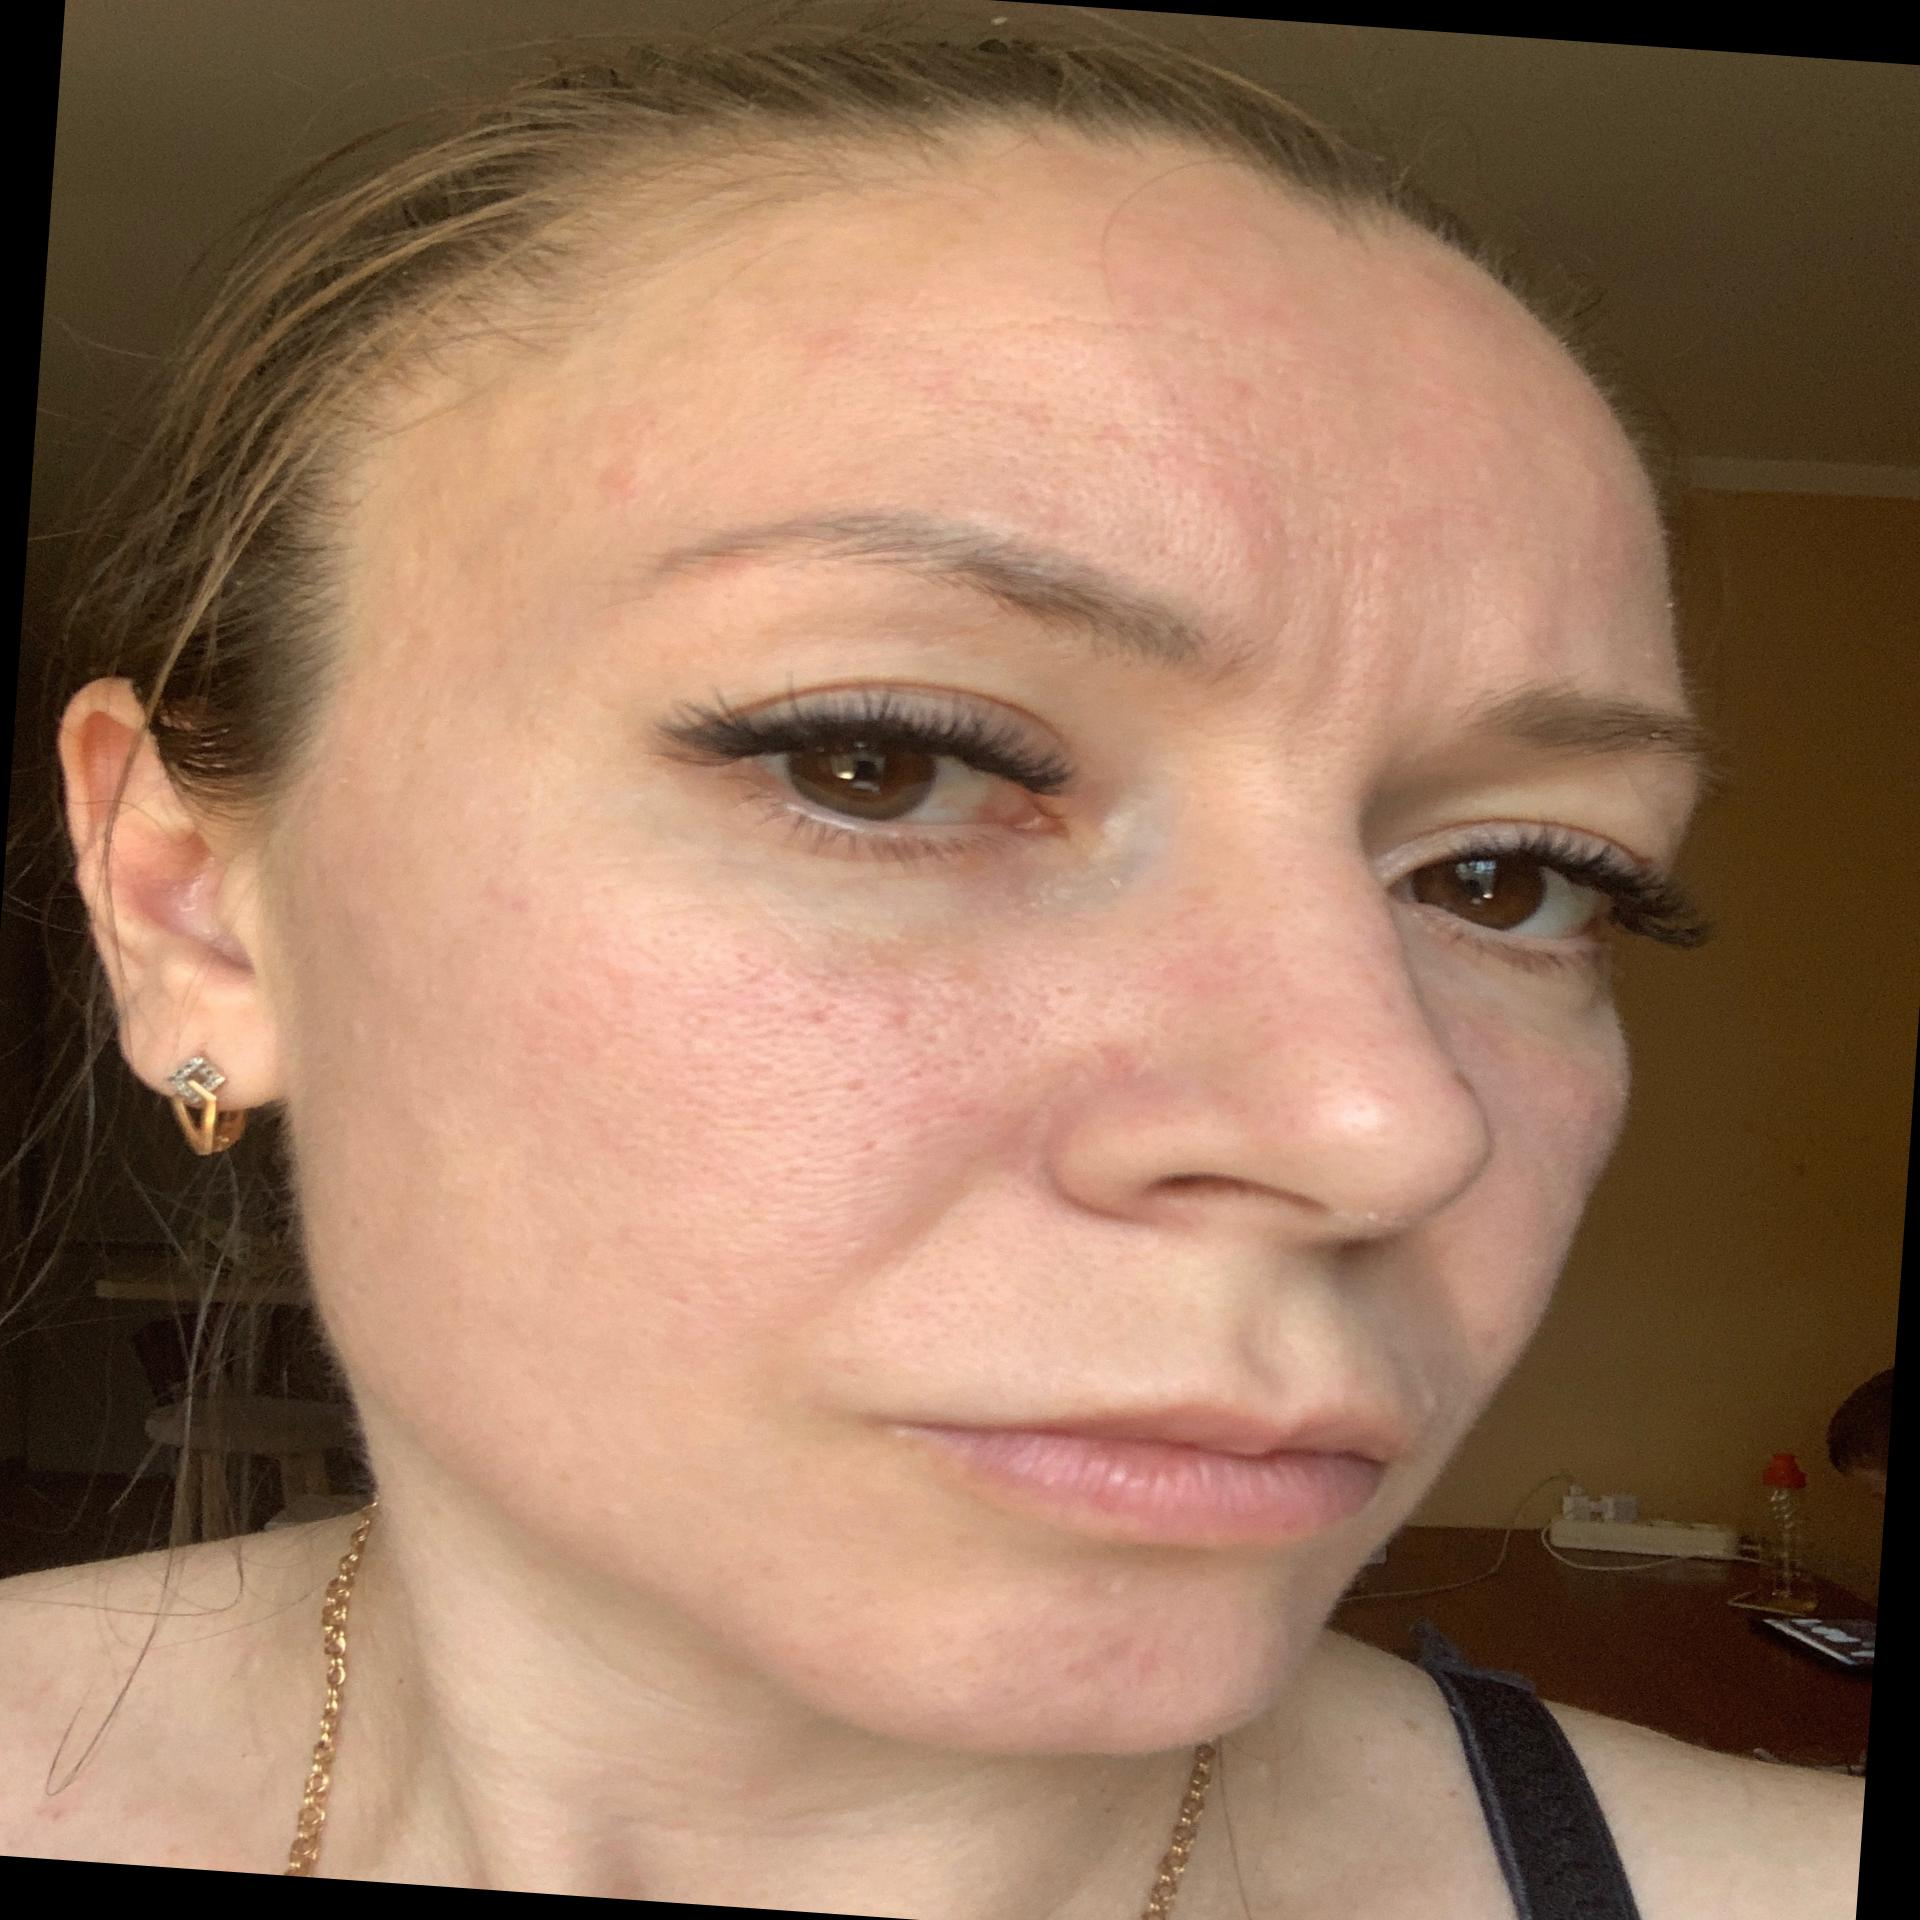Acne: (591, 454, 647, 517)
Englarged Pores: (890, 315, 1284, 591), (656, 1051, 948, 1306), (615, 942, 1083, 1087), (1261, 527, 1417, 832)
Wrinkles: (765, 1109, 1048, 1359), (1083, 425, 1489, 505), (921, 297, 1289, 360), (1030, 1598, 1190, 1688)
